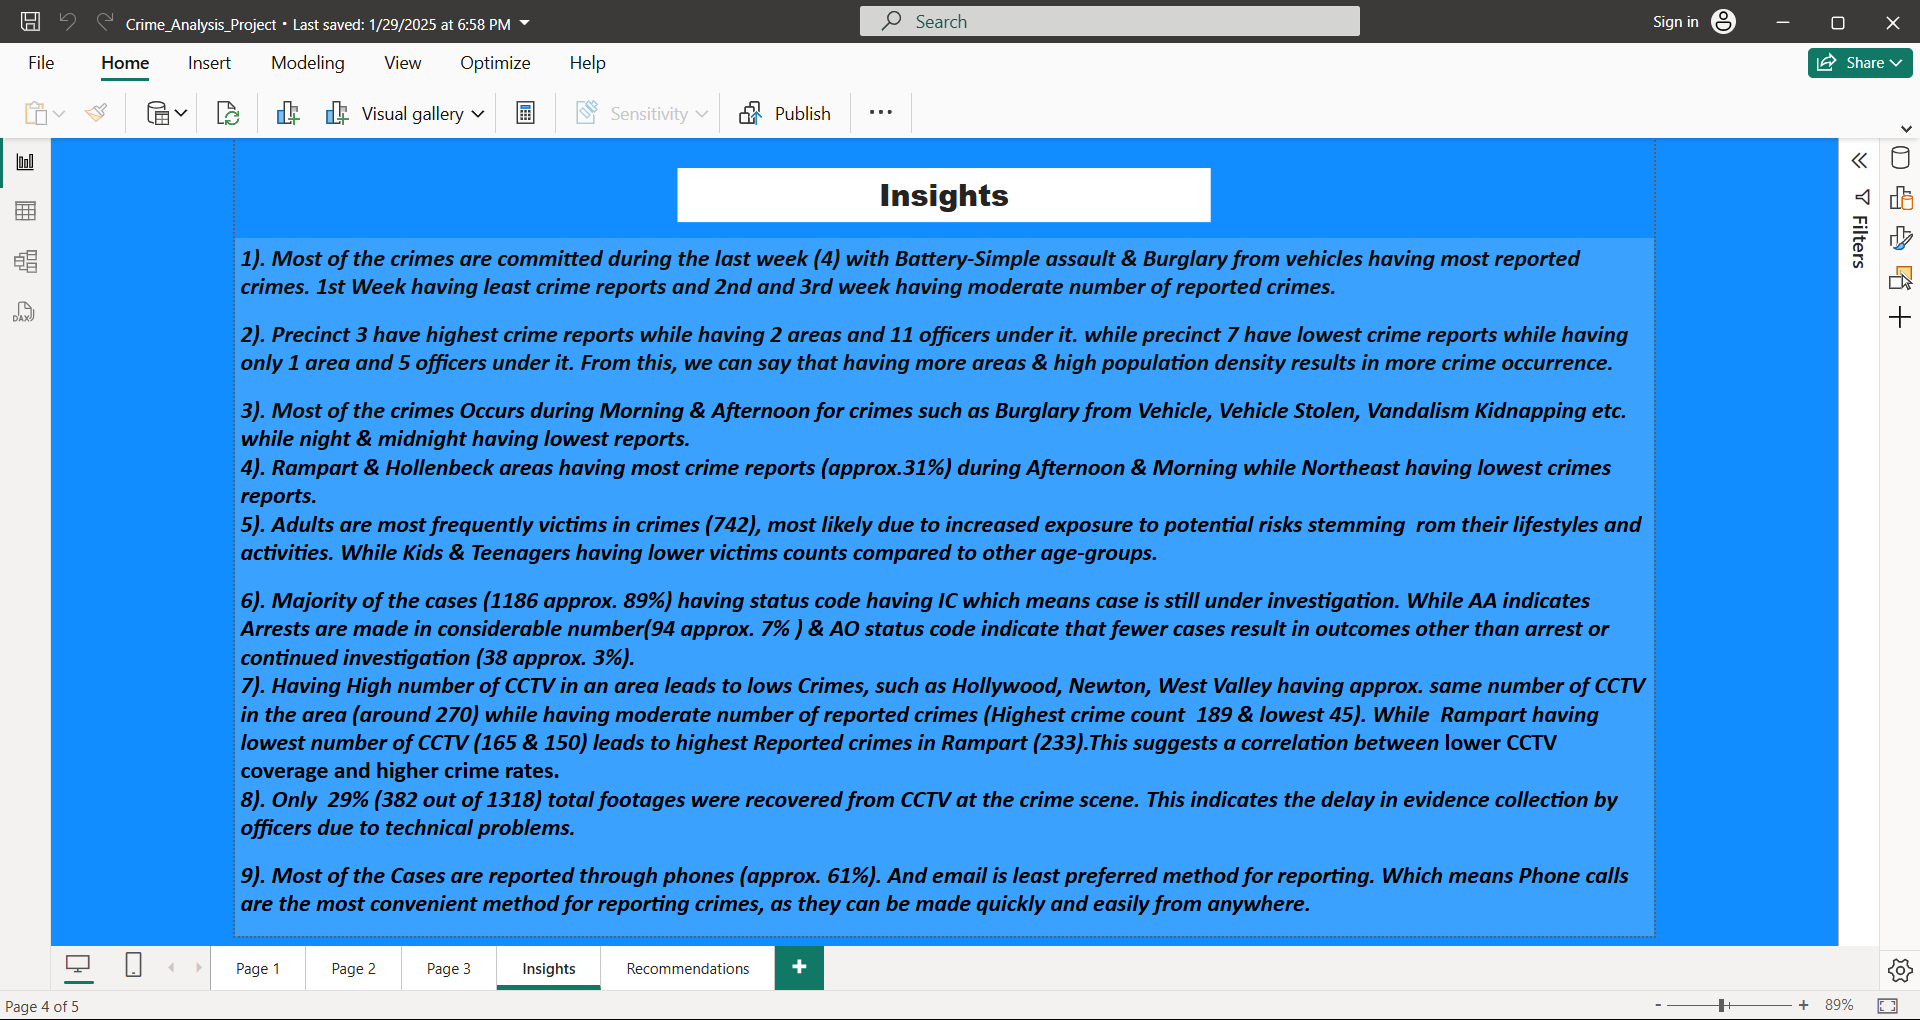

This screenshot's page, from the dashboard's own definition file:
{"tool":"powerbi","page":{"name":"Insights","canvas":[1280,720],"ordinal":3},"visuals":[{"type":"textbox","box":[0,90.5,1280.3,629.8],"z":0},{"type":"textbox","box":[398.6,26.9,480.6,48.9],"z":1000}]}

Visuals, with their boxes on the page's 1280x720 design canvas (x1, y1, x2, y2). These are canvas units, not pixel positions in the 1920x1020 screenshot, which may show the page scaled, cropped or inside an application window:
textbox: bbox(0, 90, 1280, 720)
textbox: bbox(399, 27, 879, 76)
